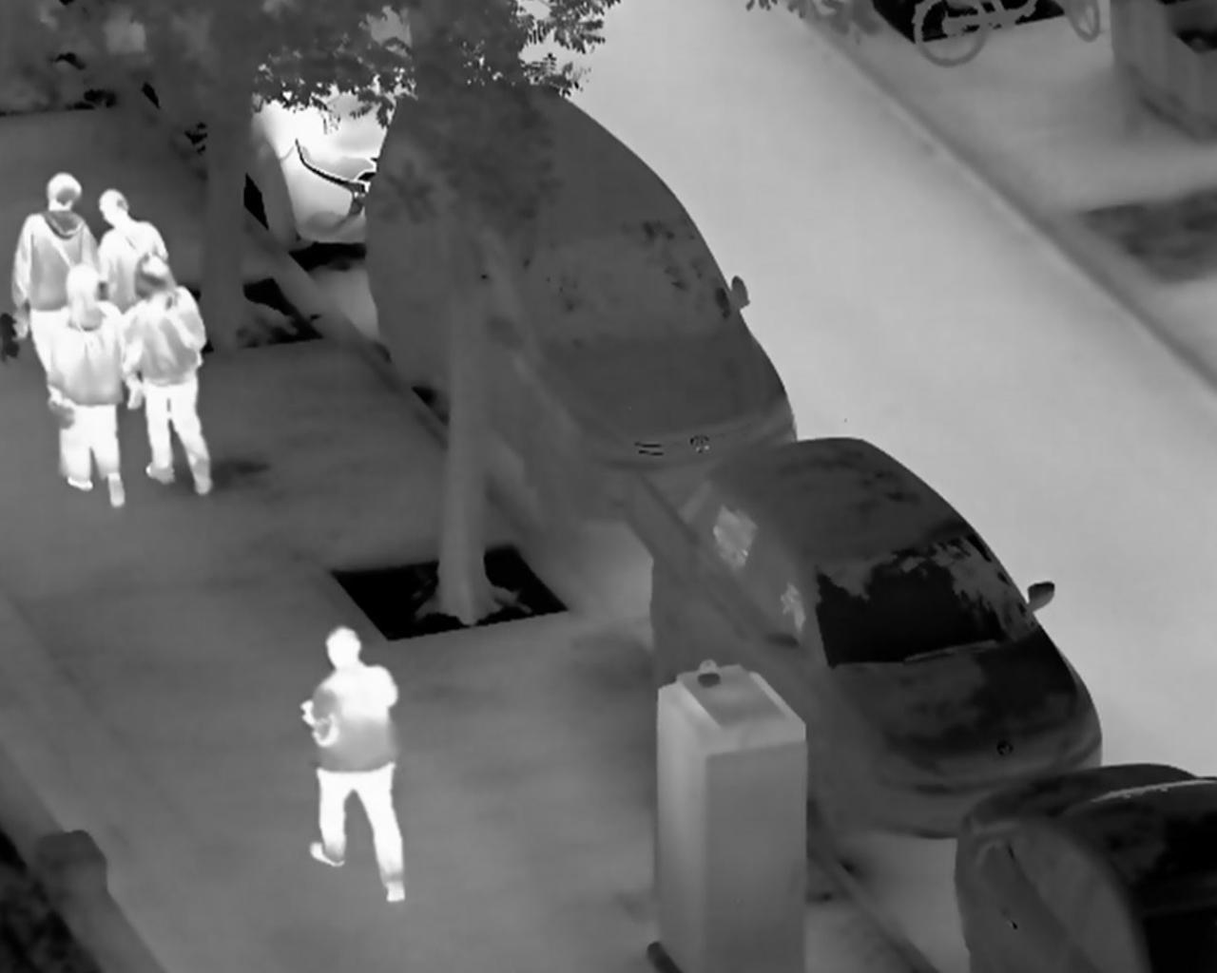person: (299, 623, 408, 906), (121, 252, 215, 498), (45, 264, 131, 510), (11, 168, 97, 375)
